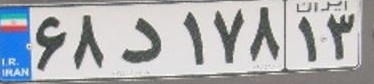character: (112, 8, 168, 72), (31, 13, 71, 77), (71, 11, 108, 74), (211, 5, 247, 67), (247, 3, 281, 66), (176, 7, 206, 72), (324, 10, 357, 63), (292, 13, 320, 65)
